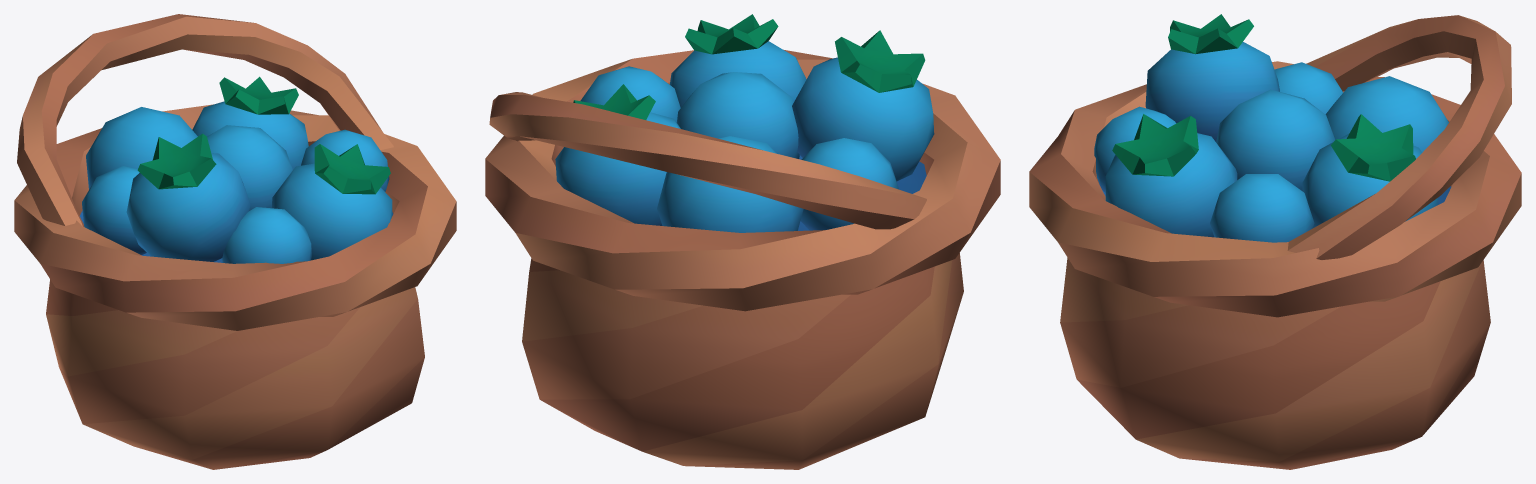
File: food_basket_a_berries.glb
The picture shows the model from 3 angles, left to right: view 1: azimuth 30°, elevation 25°; view 2: azimuth 150°, elevation 25°; view 3: azimuth 270°, elevation 25°; orthographic projection. The views are drawn at different scales.
Visible parts, largest first — view 1: Food_Basket_A_Berries; view 2: Food_Basket_A_Berries; view 3: Food_Basket_A_Berries.
Part boxes in pixels (x1,y1,x2,y2): Food_Basket_A_Berries: (14,14,456,469); Food_Basket_A_Berries: (485,14,1000,469); Food_Basket_A_Berries: (1029,14,1521,469).
Bounding box in the file's own units: 0.8506 × 0.6798 × 0.834.
Materials: 1 (1 with a texture image).
